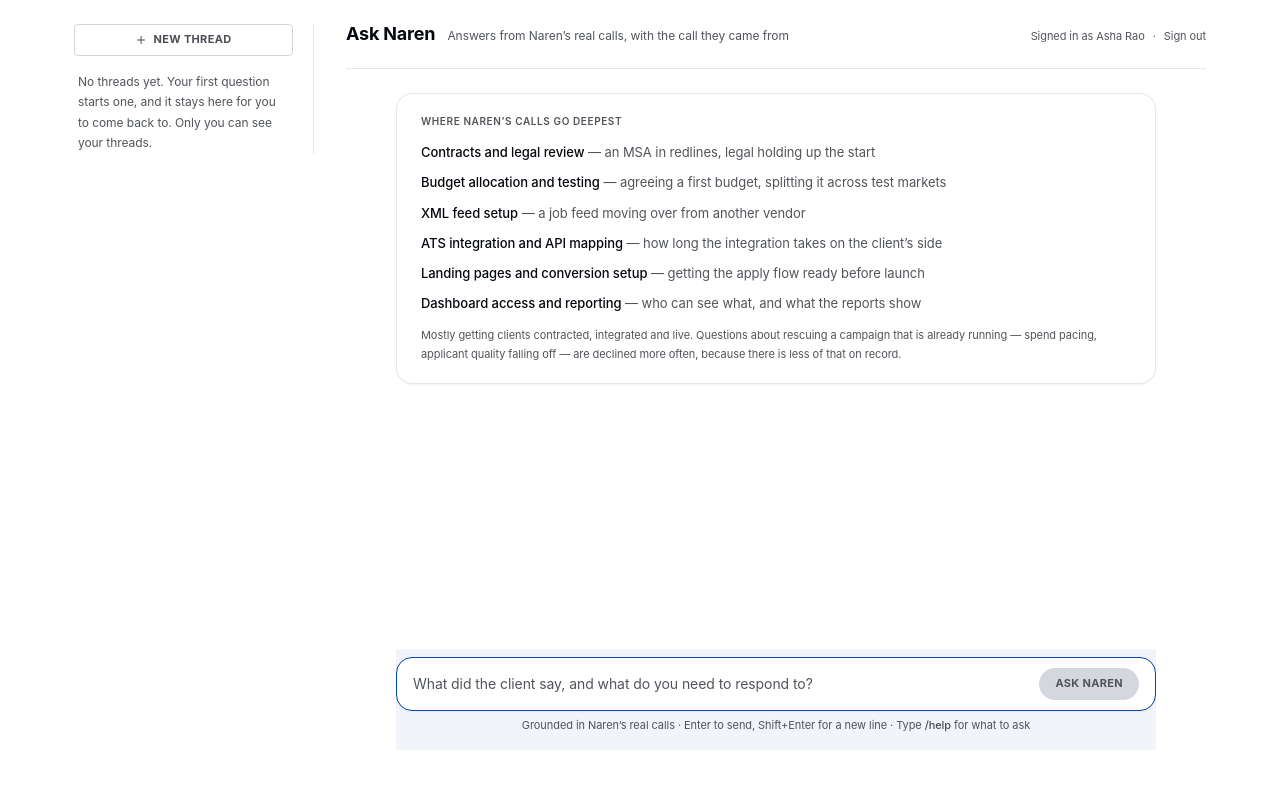
AskNaren outcomes › renders an answered response as the answer card
Type "applies are flat" into the text box named "The situation" at (722, 684), box top-left (413, 668), bottom-right (1031, 700)
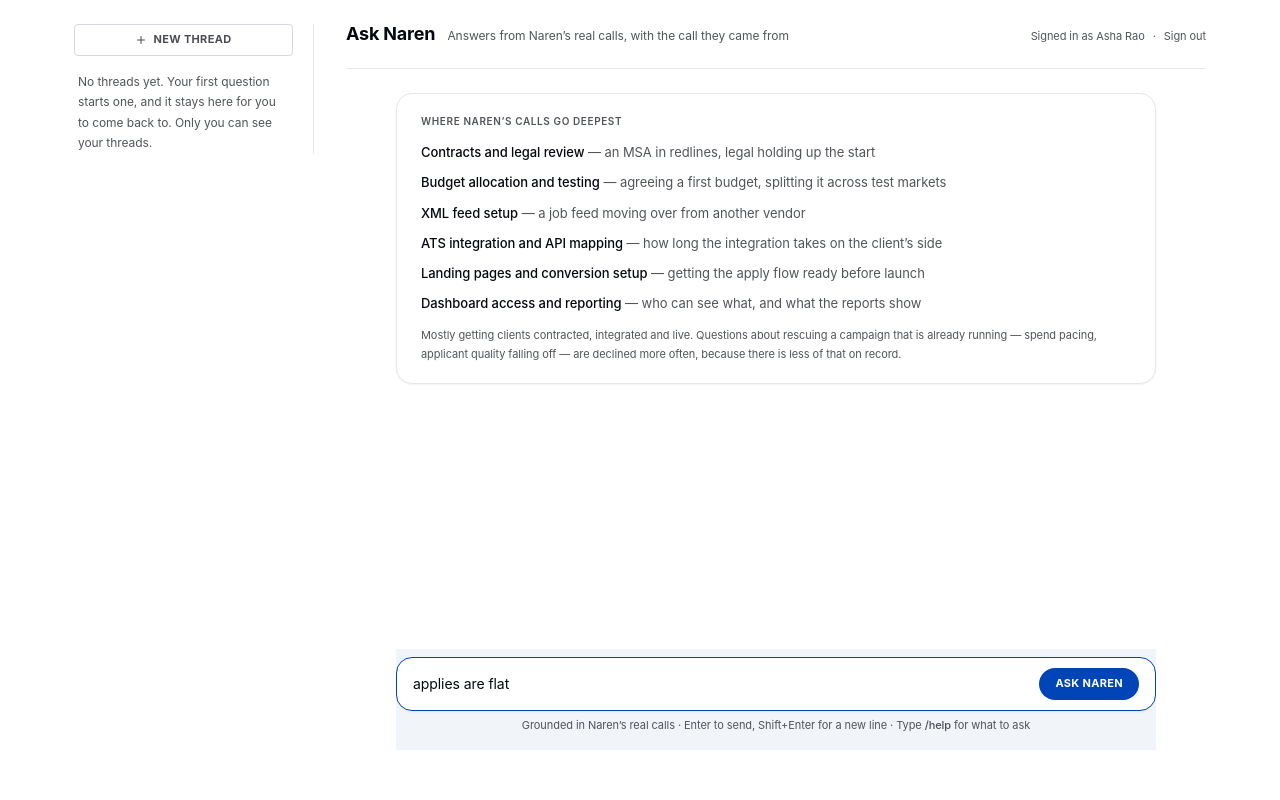
Click the button "Ask Naren" at (1089, 684), box top-left (1039, 668), bottom-right (1139, 700)
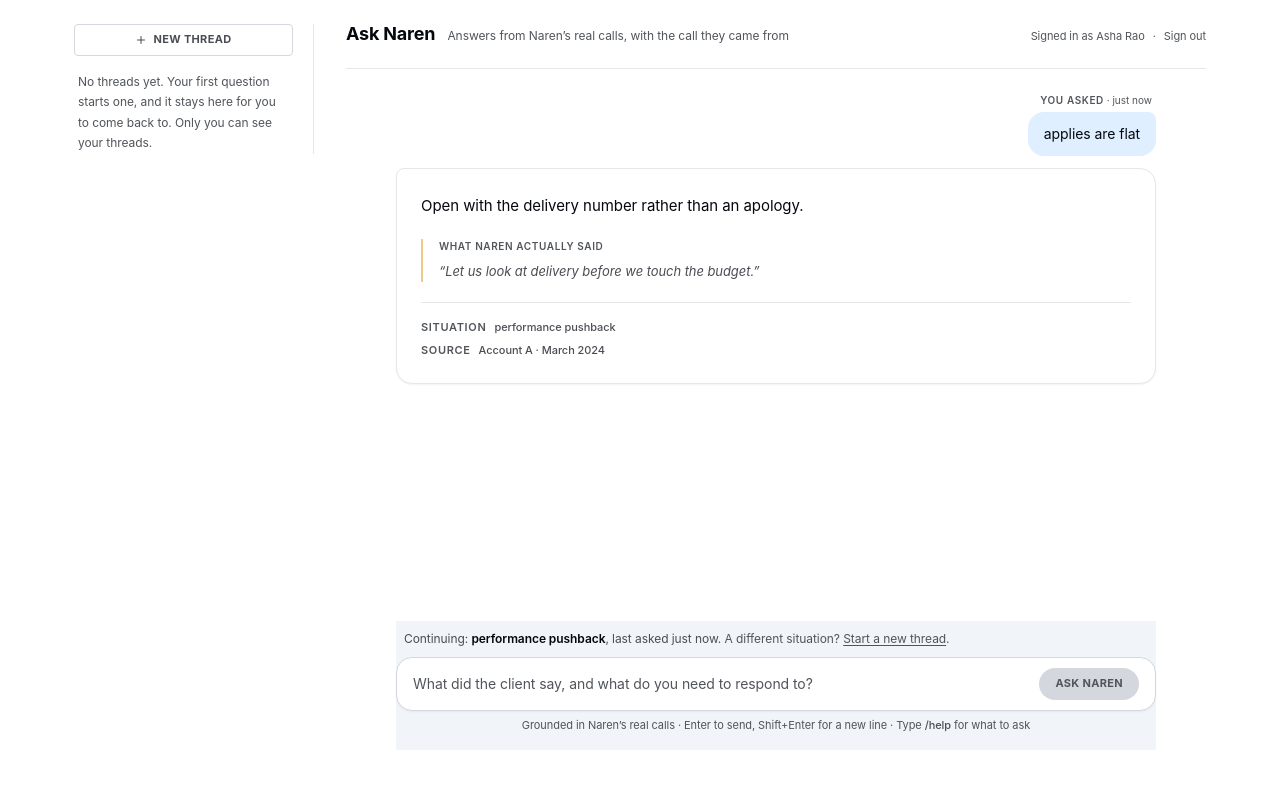
Expected: the text "What Naren actually said" is shown, top-left (439, 240), bottom-right (603, 252)
Expected: the text "You asked" is shown, top-left (1040, 94), bottom-right (1104, 106)
